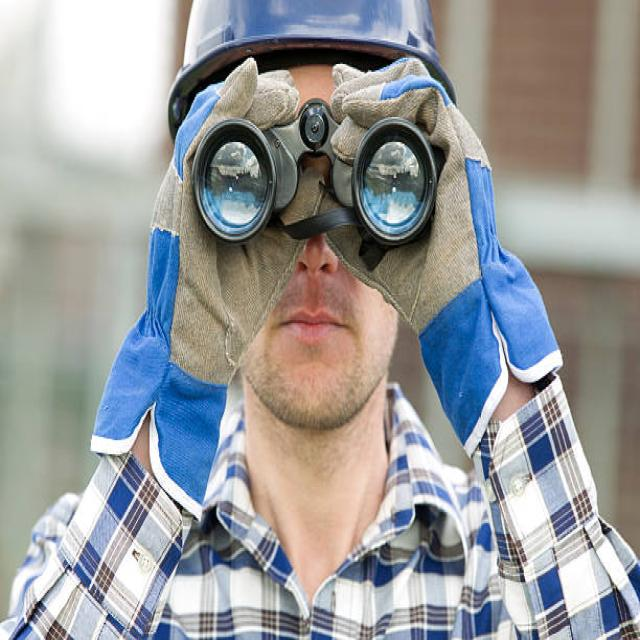gloves: (91, 55, 323, 523), (306, 58, 565, 460)
